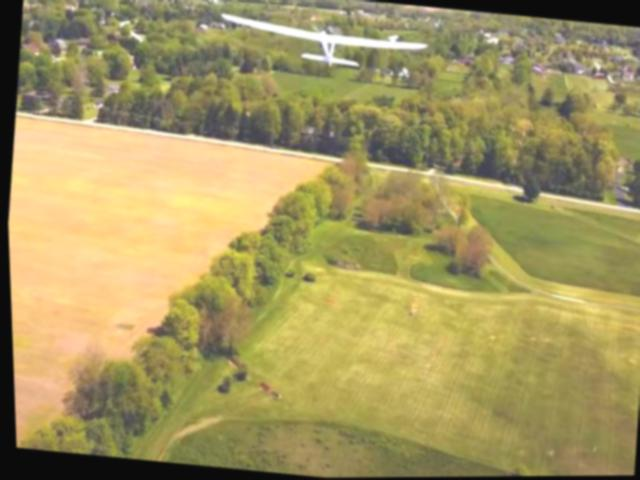iha: (216, 5, 445, 81)
